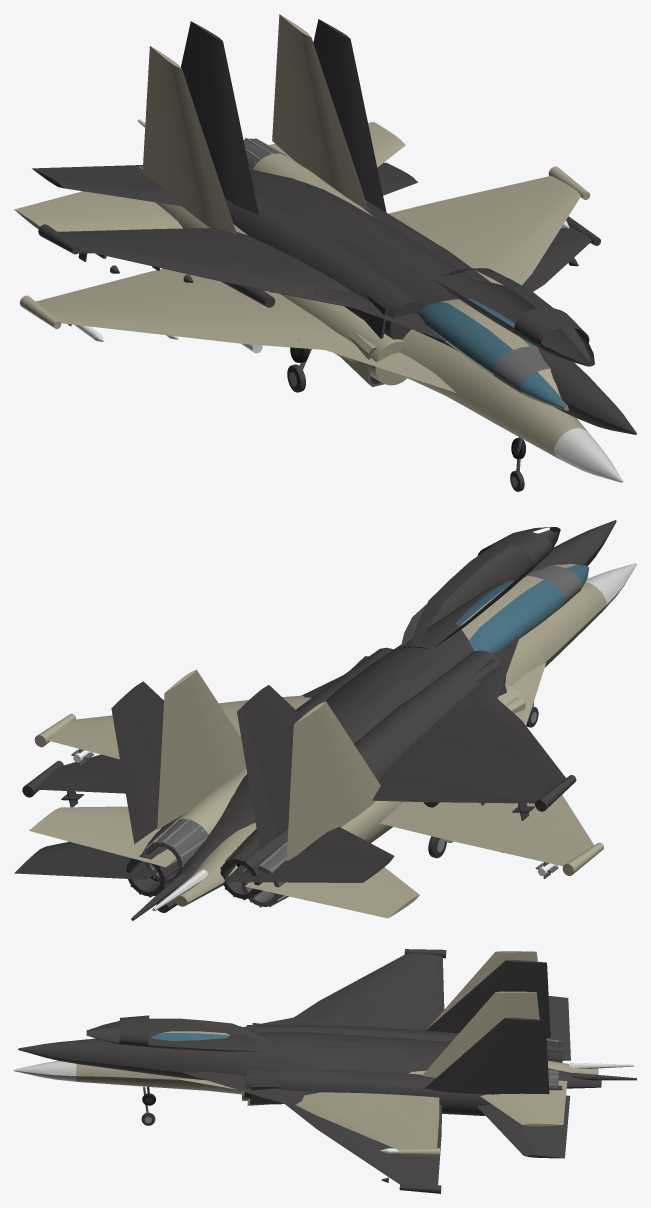
File: ewJet__j_16d.glb
3 renders of one model, top to bottom at view 1: azimuth 30°, elevation 25°; view 2: azimuth 150°, elevation 25°; view 3: azimuth 270°, elevation 25°, orthographic. The views are drawn at different scales.
Parts seen in each view (by area): view 1: Fuselage_Mesh, Wreck; view 2: Wreck, Fuselage_Mesh; view 3: Wreck, Fuselage_Mesh.
Part boxes in pixels (bbox=[...]): Fuselage_Mesh: bbox=[14, 14, 622, 491]; Wreck: bbox=[32, 19, 636, 458]; Wreck: bbox=[14, 520, 616, 920]; Fuselage_Mesh: bbox=[29, 563, 636, 918]; Wreck: bbox=[18, 949, 636, 1193]; Fuselage_Mesh: bbox=[14, 951, 633, 1156].
Size of what is drawn, in the model's own units: 15.34 by 6.63 by 23.38.
